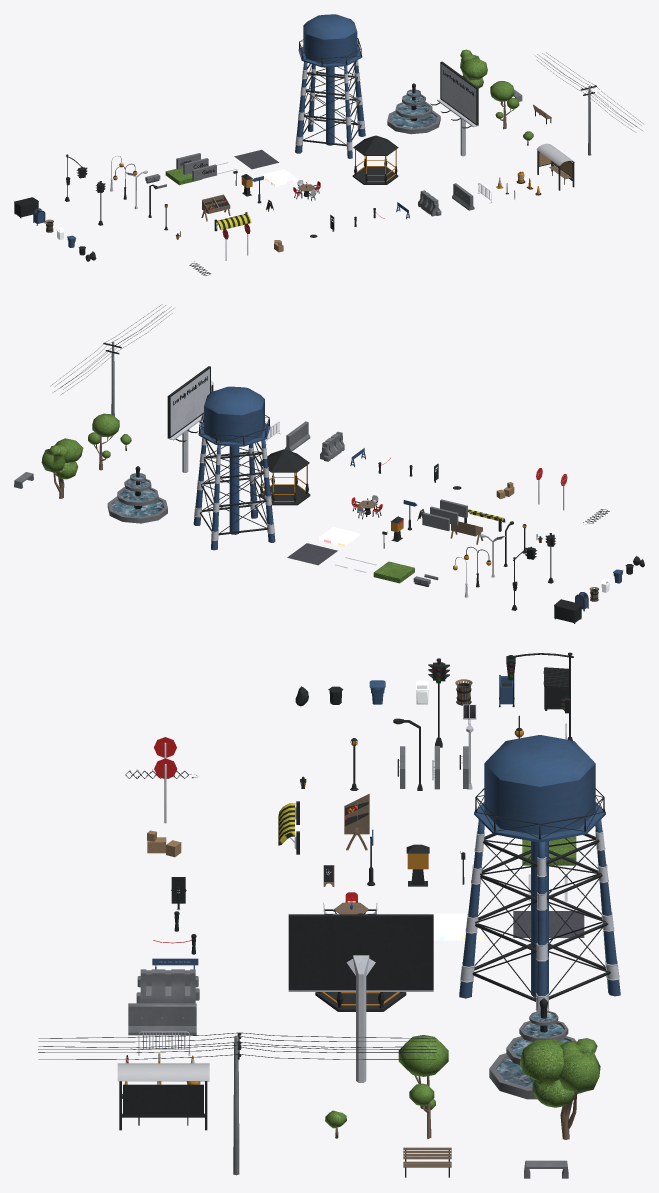
The model's file is free_lowpoly_city_props_pack__by_maha.glb.
3 renders of one model, top to bottom at view 1: azimuth 30°, elevation 25°; view 2: azimuth 150°, elevation 25°; view 3: azimuth 270°, elevation 25°, orthographic. The views are drawn at different scales.
Visible parts, largest first — view 1: WaterSource_39, Billboard_11, Fountain_36, Gazebo_28, Bus station_10, Tree-1_29, Tree-2_24, TireBarq_38, Asphalt_44, FruitShop_26, walking road_40, ShopShadow_19 (+2 smaller); view 2: WaterSource_39, Billboard_11, Fountain_36, Gazebo_28, Tree-1_29, Tree-2_24, TireBarq_38, Asphalt_44, Grass.001_41, BigBin_3, walking road_40, Road-Ban-1_57 (+1 smaller); view 3: WaterSource_39, Billboard_11, Bus station_10, Tree-1_29, TireBarq_38, Fountain_36, Tree-2_24, O-01_53, Road-Ban-1_57, Asphalt_44, Gazebo_28, walking road_40 (+6 smaller).
Part boxes in pixels (box(x1,y1,x2,y2)): WaterSource_39: box(295, 14, 365, 158); Billboard_11: box(430, 61, 478, 156); Fountain_36: box(387, 83, 440, 134); Gazebo_28: box(352, 135, 398, 184); Bus station_10: box(536, 143, 574, 190); Tree-1_29: box(460, 49, 487, 88); Tree-2_24: box(490, 81, 519, 129); TireBarq_38: box(536, 52, 643, 155); Asphalt_44: box(234, 149, 278, 169); FruitShop_26: box(201, 194, 230, 221); walking road_40: box(261, 169, 297, 186); ShopShadow_19: box(214, 212, 251, 231); WaterSource_39: box(193, 386, 275, 550); Billboard_11: box(167, 366, 210, 472); Fountain_36: box(107, 466, 167, 523); Gazebo_28: box(259, 449, 310, 505); Tree-1_29: box(41, 438, 83, 498); Tree-2_24: box(88, 413, 119, 470); TireBarq_38: box(50, 304, 173, 416); Asphalt_44: box(287, 543, 337, 565); Grass.001_41: box(373, 561, 414, 583); BigBin_3: box(554, 599, 581, 623); walking road_40: box(318, 527, 359, 546); Road-Ban-1_57: box(320, 431, 344, 461); WaterSource_39: box(459, 735, 620, 1011); Billboard_11: box(288, 914, 433, 1082); Bus station_10: box(117, 1063, 209, 1130); Tree-1_29: box(519, 1038, 600, 1139); TireBarq_38: box(38, 1032, 436, 1175); Fountain_36: box(489, 998, 585, 1099); Tree-2_24: box(398, 1035, 448, 1139); O-01_53: box(128, 1003, 196, 1035); Road-Ban-1_57: box(136, 969, 199, 1003); Asphalt_44: box(513, 911, 584, 937); Gazebo_28: box(315, 913, 406, 1011); walking road_40: box(429, 913, 483, 940).
Size of the model in its own units: 42.95 by 10.33 by 21.66.
Materials: 2 (1 with a texture image).
